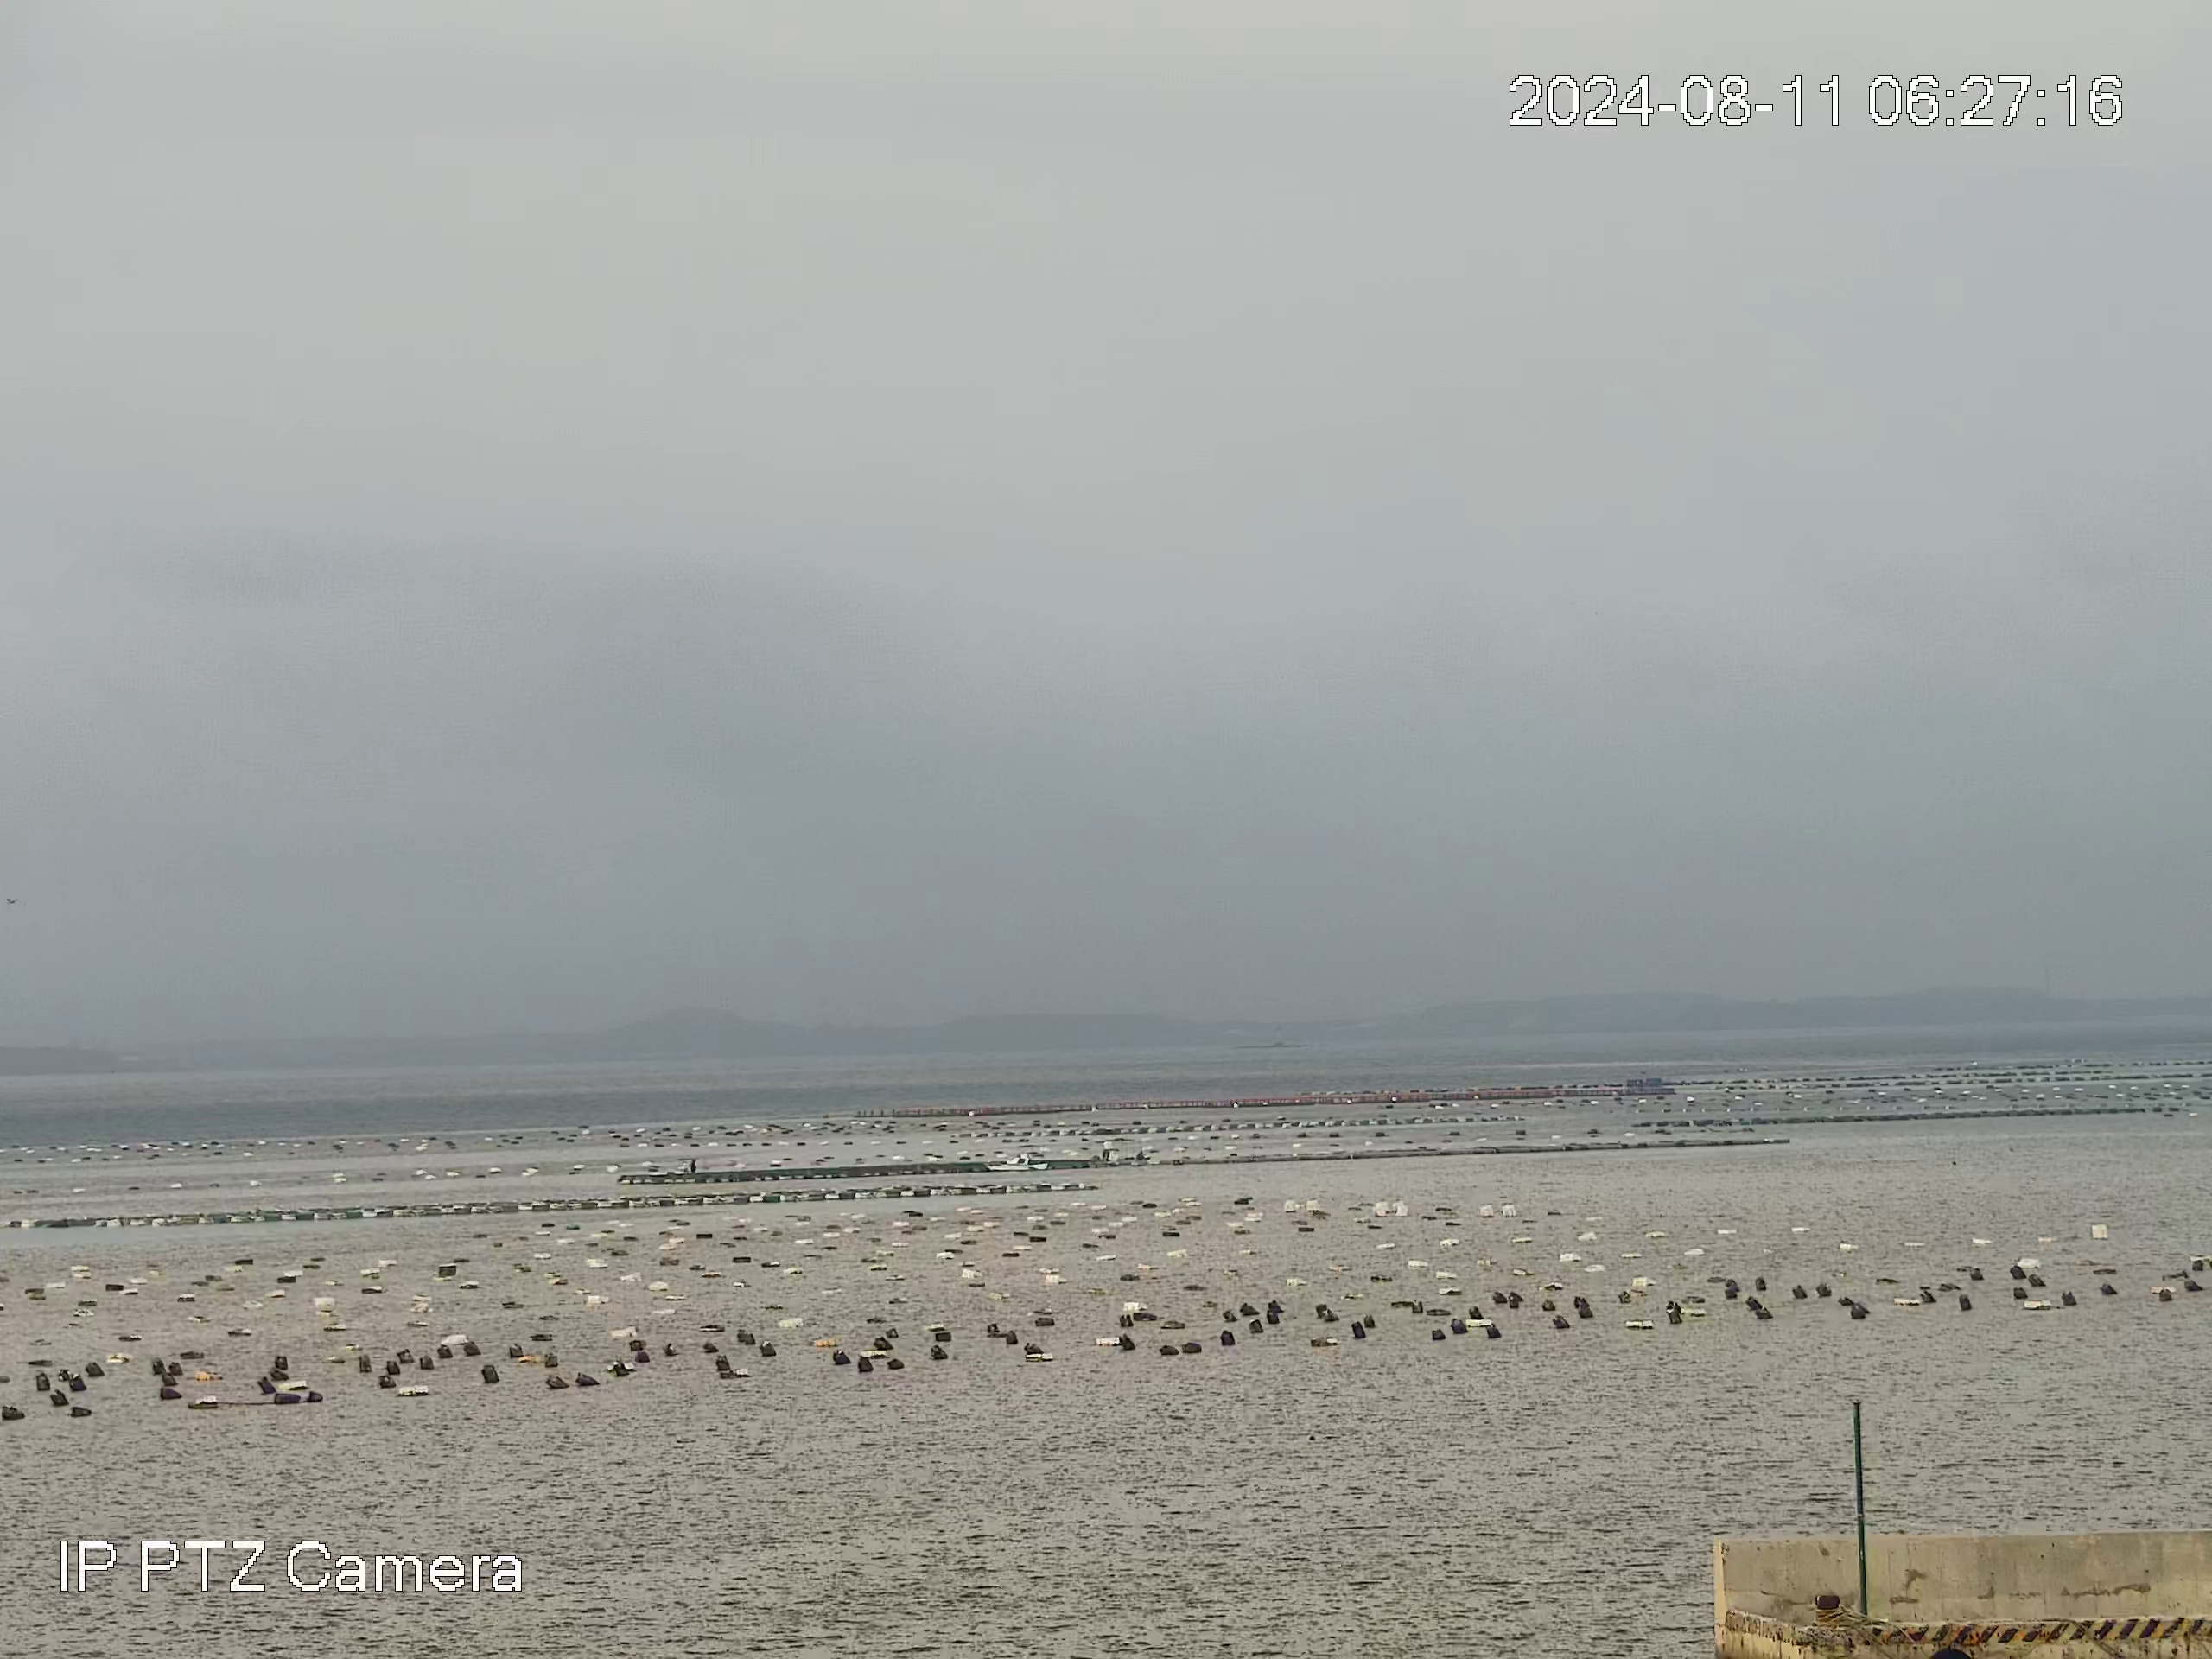boat: (982, 1152, 1049, 1173)
